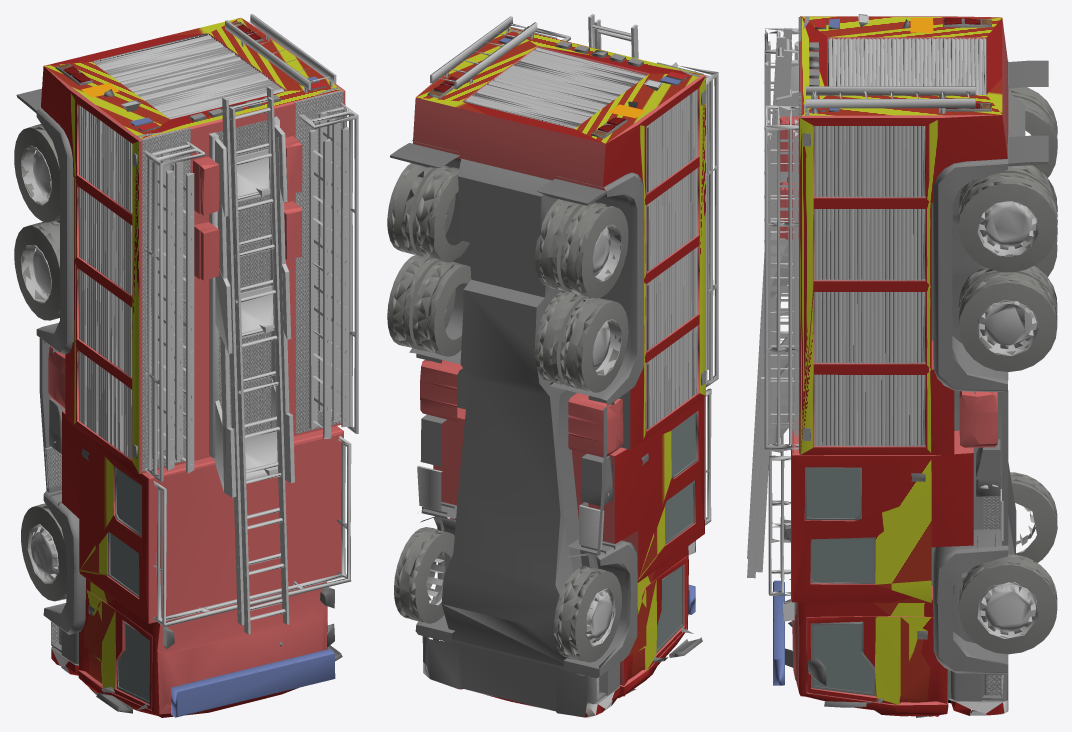
The model's file is FireVehicle.glb.
The picture shows the model from 3 angles, left to right: view 1: azimuth 30°, elevation 25°; view 2: azimuth 150°, elevation 25°; view 3: azimuth 270°, elevation 25°; orthographic projection. The views are drawn at different scales.
Parts seen in each view (by area): view 1: obj0_0; view 2: obj0_0; view 3: obj0_0.
Part boxes in pixels (bbox=[...]): obj0_0: bbox=[14, 14, 358, 717]; obj0_0: bbox=[387, 14, 718, 717]; obj0_0: bbox=[747, 14, 1057, 717].
Size of the model in its own units: 7.92 by 21.16 by 9.28.
Materials: 35 (13 with a texture image).
